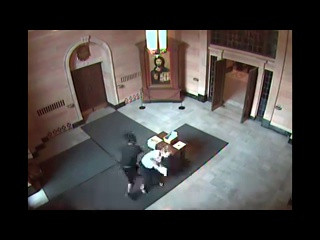Burglary: (119, 132, 143, 194)
